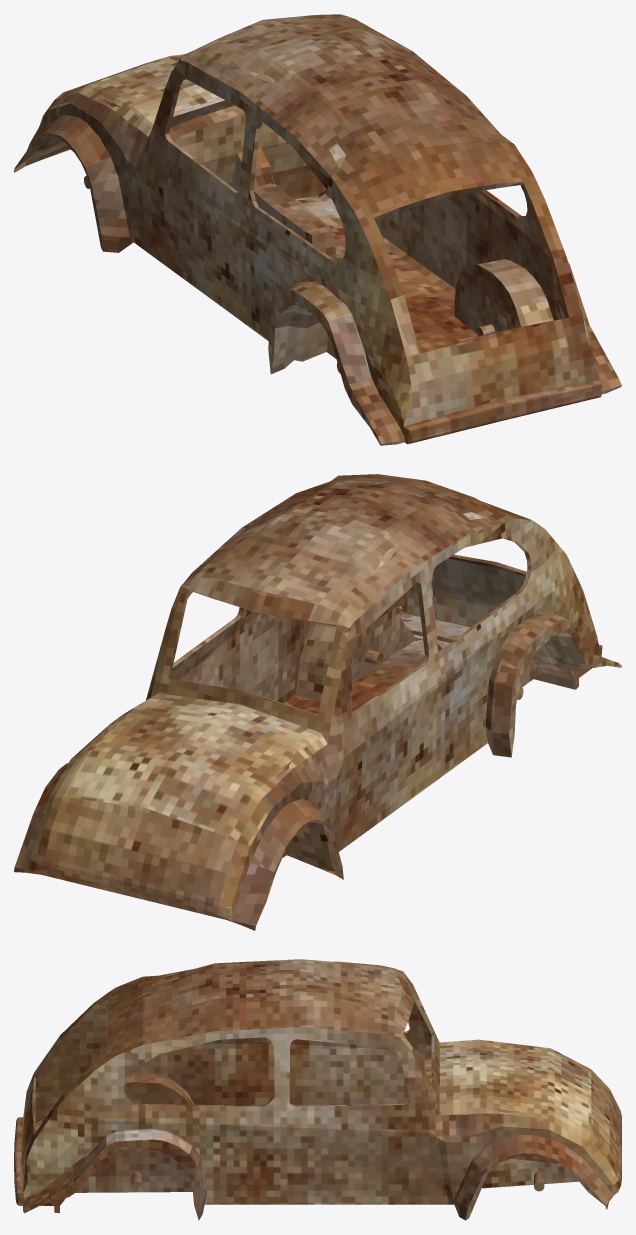
Rendered from caruv.glb.
The picture shows the model from 3 angles, top to bottom: view 1: azimuth 30°, elevation 25°; view 2: azimuth 150°, elevation 25°; view 3: azimuth 270°, elevation 25°; orthographic projection. The views are drawn at different scales.
Visible parts, largest first — view 1: aa; view 2: aa; view 3: aa.
Boxes of the visible parts, x1,y1,x2,y2 form: aa: (14, 14, 621, 445); aa: (14, 474, 621, 930); aa: (14, 959, 621, 1220).
Size of the model in its own units: 1.42 by 1.44 by 3.91.
1 material, 1 textured.
